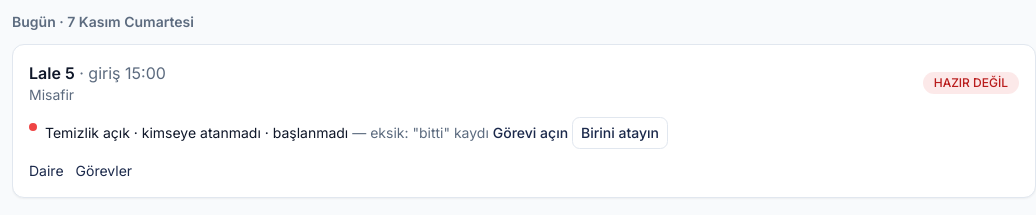
Test: Girişler — satırdan atama › 🚨 seçim (klavyede ok tuşu / harf) TEK BAŞINA atamaz: istek yalnız 'Atayın' ile gider
Select "Ali" in the dropdown named "Birini atayın" at [620, 133], box [572,117,668,149]
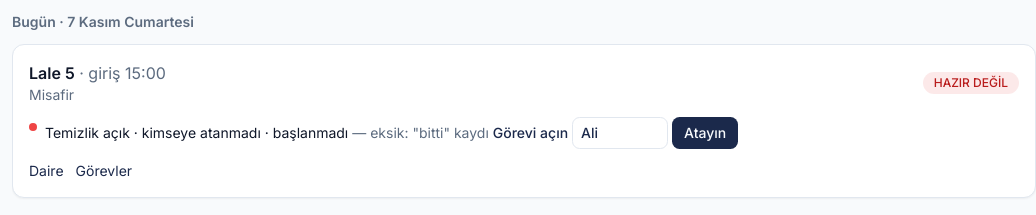
Expected: the button "Atayın" is shown, [672,117,738,149]
